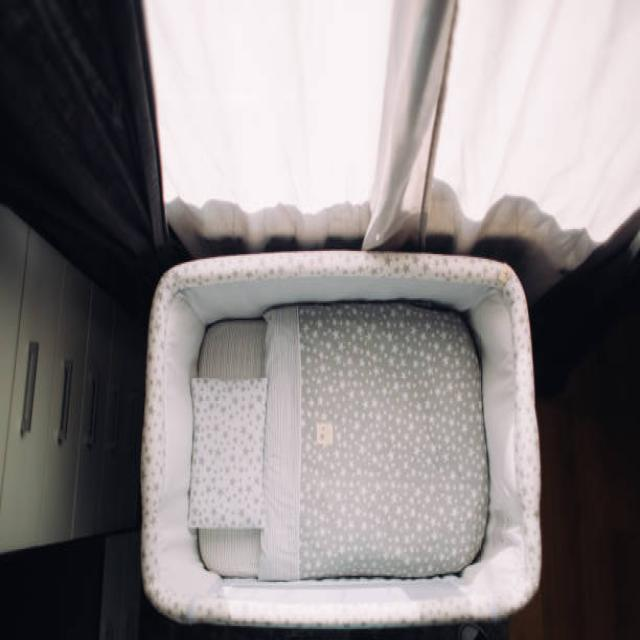crib: (139, 247, 543, 636)
